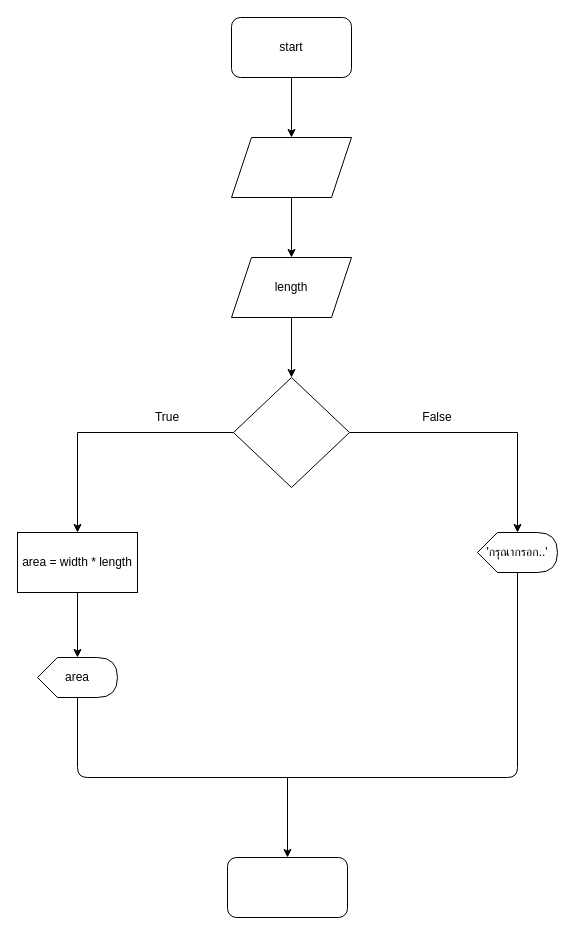
Some shapes in this 575 by 935 pixel diagram are drawn without their labels. The shapes that lost their labels are listed below. From the top down, each one's box as (x1, y1, x2, y2) in pixels, then its label:
(230, 136, 352, 198): width
(232, 376, 350, 488): (width > 0) and (length > 0)
(226, 856, 348, 918): End
